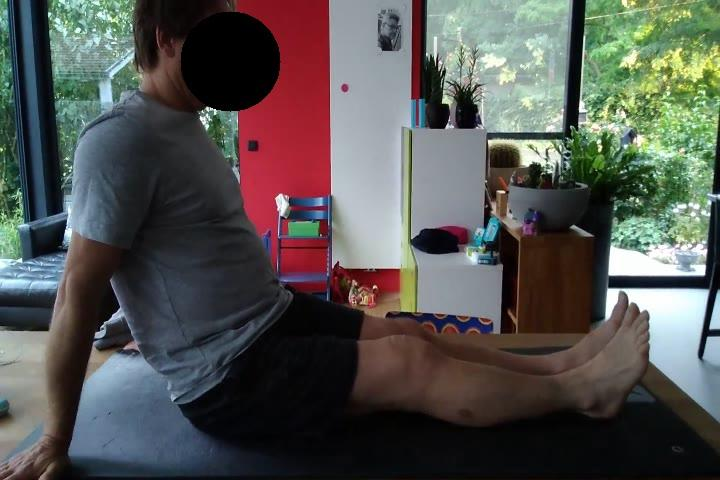lower_body: (179, 290, 652, 430)
